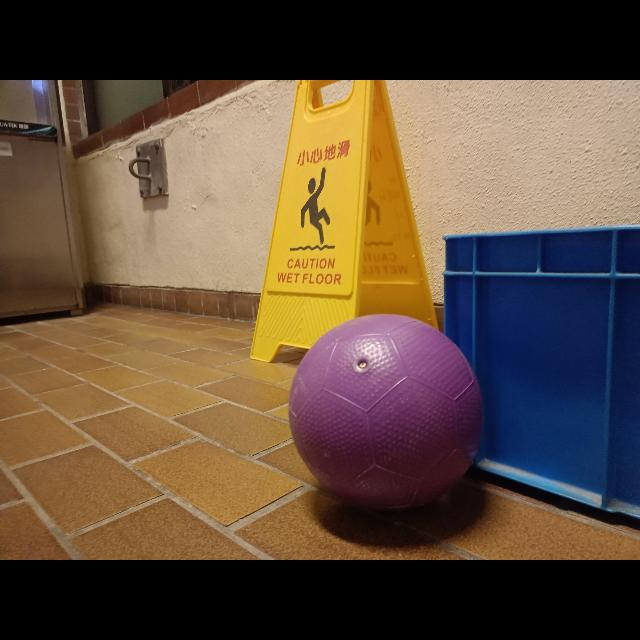P: (284, 309, 488, 515)
